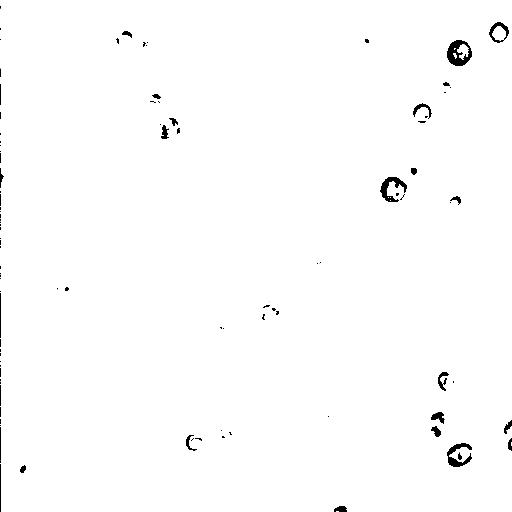micro-algae: (142, 1, 241, 52), (370, 41, 438, 114), (427, 452, 503, 511), (17, 229, 78, 292), (425, 51, 478, 100), (371, 7, 410, 55), (9, 448, 45, 485), (157, 134, 196, 168), (307, 244, 339, 275), (353, 22, 383, 53), (341, 73, 372, 103), (490, 405, 511, 447), (115, 337, 145, 366), (133, 23, 159, 55), (154, 113, 183, 141), (443, 442, 475, 467), (379, 177, 409, 203), (1, 75, 22, 111), (447, 39, 473, 67), (399, 157, 427, 183), (212, 429, 237, 453), (53, 278, 75, 305), (1, 158, 17, 195), (88, 265, 111, 289), (431, 81, 457, 101), (422, 422, 448, 442), (259, 302, 281, 325), (489, 21, 510, 41), (114, 28, 134, 48), (412, 103, 431, 123), (437, 372, 456, 390), (429, 410, 445, 429), (447, 194, 463, 209), (186, 435, 201, 450), (329, 502, 349, 511), (507, 431, 512, 454)
